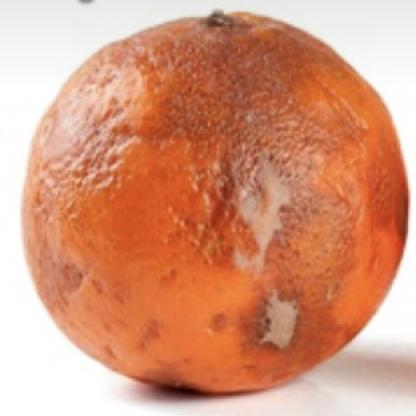rotten: (26, 9, 406, 391)
